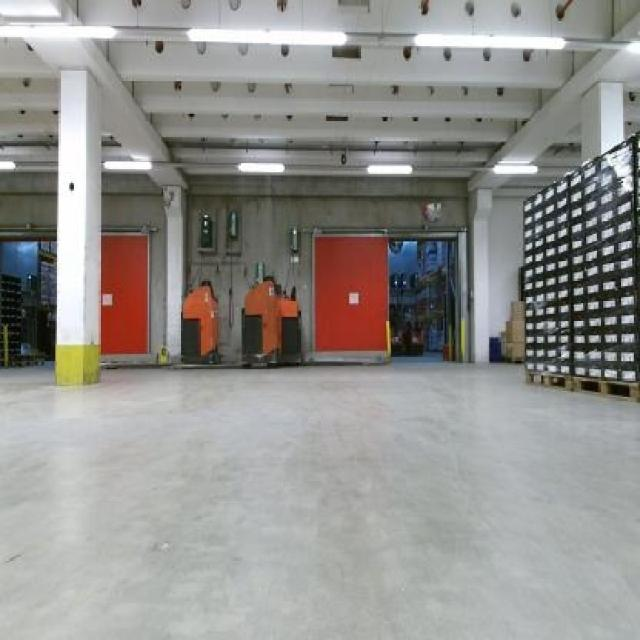floor: (0, 360, 637, 637)
pallets: (522, 132, 637, 386)
